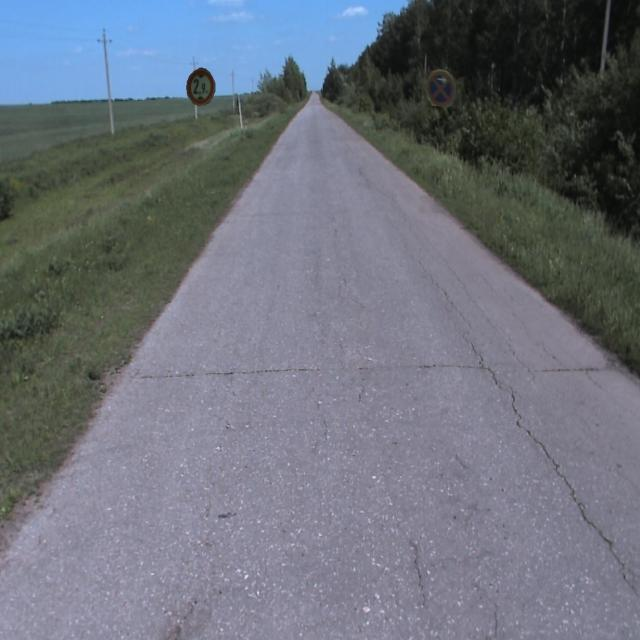road: (0, 108, 639, 639)
